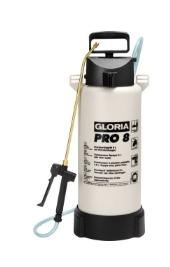PULVERISATEUR: (14, 8, 170, 267)
